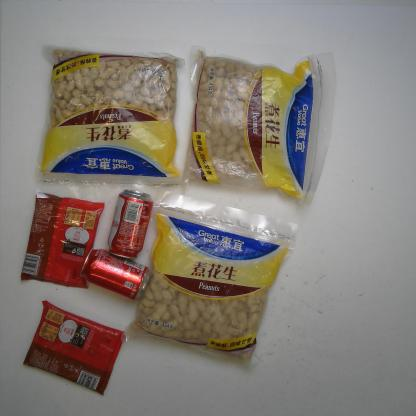Dessert: (23, 300, 126, 396), (20, 191, 105, 289)
Dried Food: (120, 189, 299, 368), (184, 45, 338, 206), (36, 44, 186, 200)
Drink: (79, 248, 150, 300), (107, 189, 154, 259)
